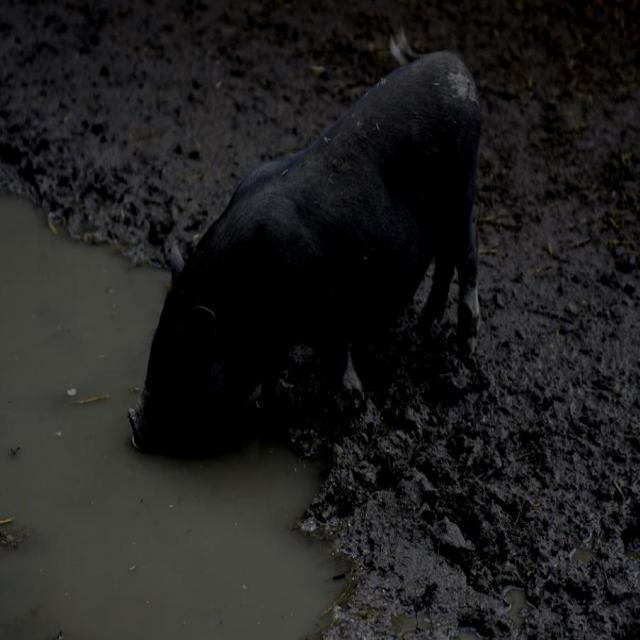pig: (130, 53, 481, 455)
